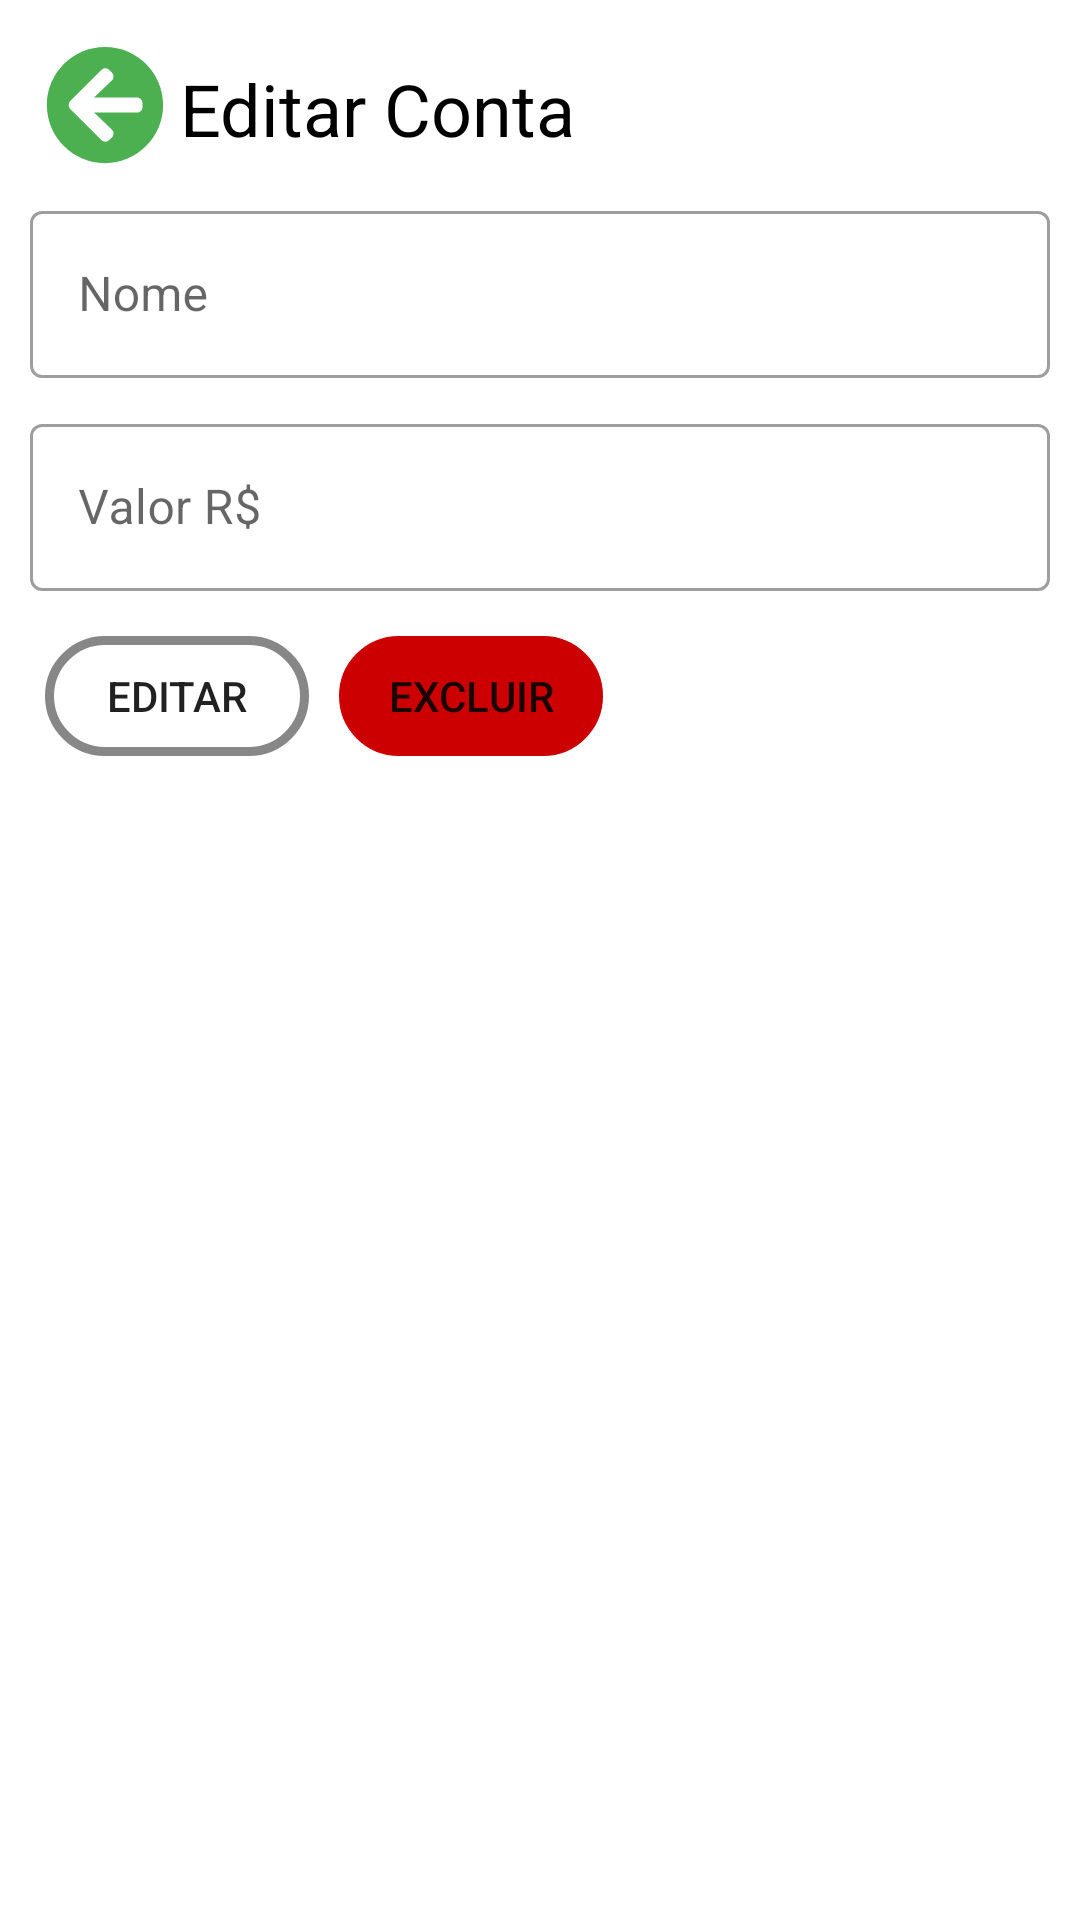

Where icons sit on this 1080px×1920px app screen, as rect(x1, y1, x2, y2):
voltar: rect(47, 47, 163, 164)
